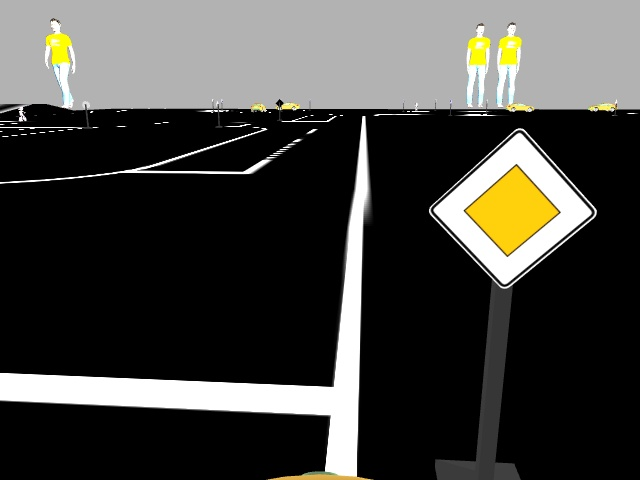Priority: (432, 128, 593, 286)
